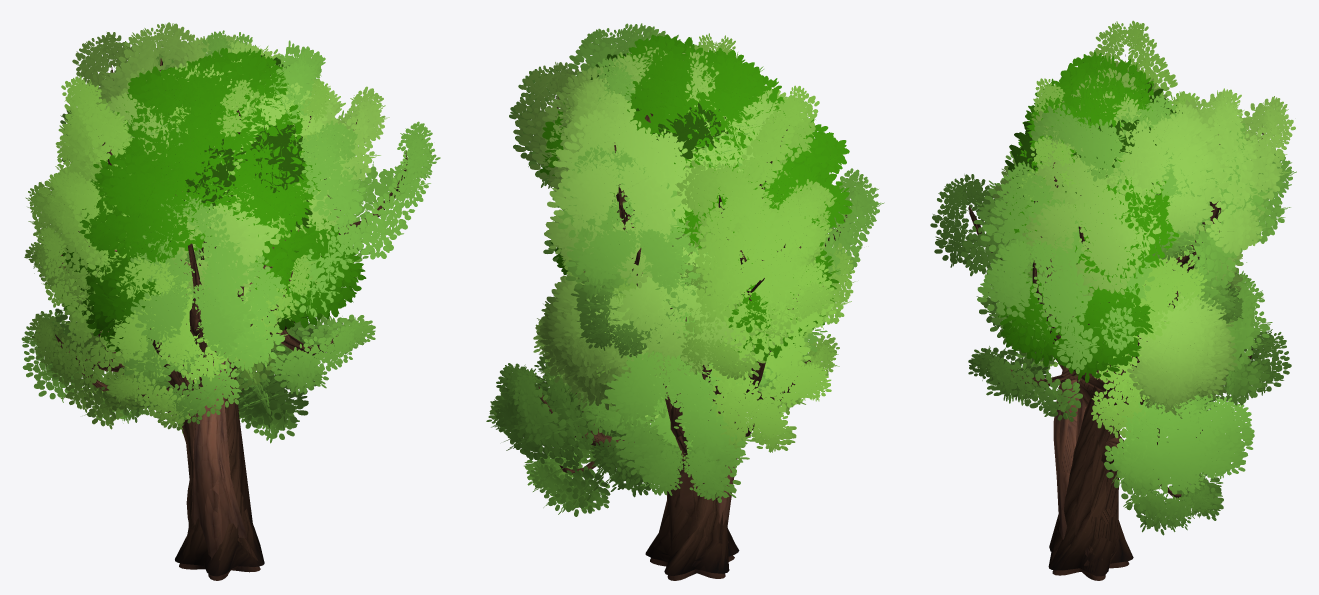
File: mangrove.glb
The picture shows the model from 3 angles, left to right: view 1: azimuth 30°, elevation 25°; view 2: azimuth 150°, elevation 25°; view 3: azimuth 270°, elevation 25°; orthographic projection. The views are drawn at different scales.
Parts seen in each view (by area): view 1: TwistedTree_3 (×2), NormalTree_1 (×2), TwistedTree_2 (×2), TwistedTree_5 (×2), CommonTree_4 (×2); view 2: TwistedTree_3 (×2), TwistedTree_5 (×2), TwistedTree_2 (×2), NormalTree_1 (×2), CommonTree_4 (×2); view 3: TwistedTree_3 (×2), TwistedTree_5 (×2), NormalTree_1 (×2), TwistedTree_2 (×2), CommonTree_4 (×2).
Part boxes in pixels (x1,y1,x2,y2): TwistedTree_3 (×2): (21, 30, 440, 565); NormalTree_1 (×2): (59, 48, 366, 351); TwistedTree_2 (×2): (24, 75, 330, 534); TwistedTree_5 (×2): (72, 22, 389, 576); CommonTree_4 (×2): (179, 54, 312, 580); TwistedTree_3 (×2): (486, 23, 884, 571); TwistedTree_5 (×2): (512, 46, 787, 575); TwistedTree_2 (×2): (558, 31, 855, 543); NormalTree_1 (×2): (539, 34, 852, 362); CommonTree_4 (×2): (590, 53, 739, 580); TwistedTree_3 (×2): (930, 88, 1296, 570); TwistedTree_5 (×2): (992, 61, 1295, 576); NormalTree_1 (×2): (998, 51, 1179, 444); TwistedTree_2 (×2): (1013, 20, 1234, 438); CommonTree_4 (×2): (1005, 82, 1182, 580).
Bounding box in the file's own units: 0.7766 × 1.02 × 0.7159.
Materials: 9 (9 with a texture image).
